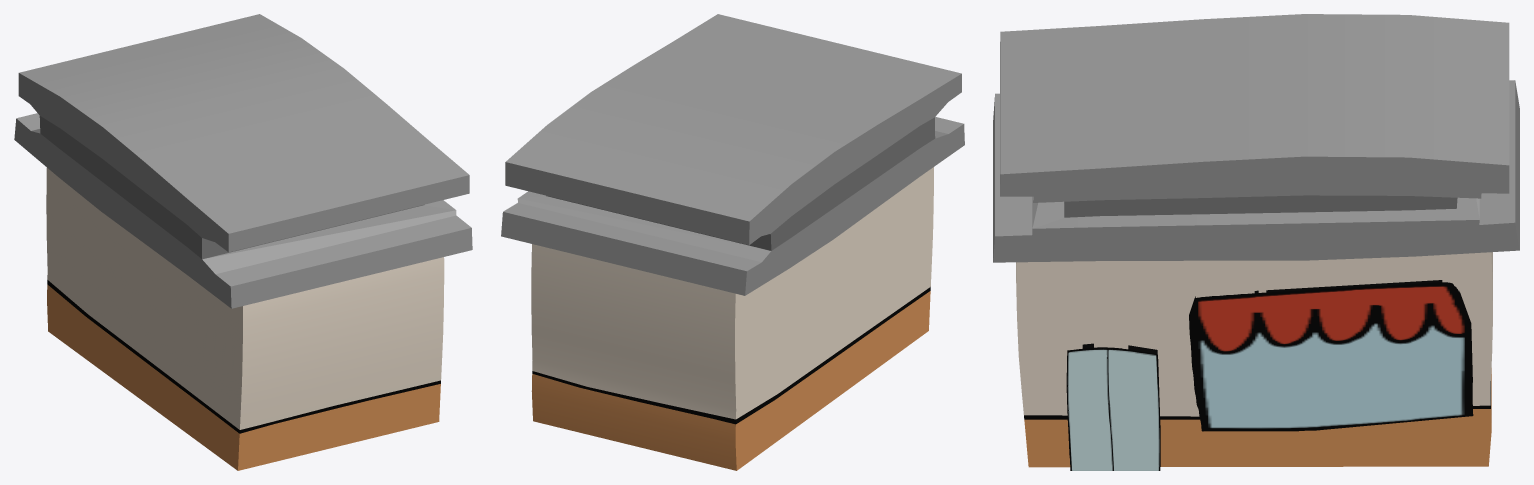
The model's file is building 8.fbx.
The picture shows the model from 3 angles, left to right: view 1: azimuth 30°, elevation 25°; view 2: azimuth 150°, elevation 25°; view 3: azimuth 270°, elevation 25°; orthographic projection. The views are drawn at different scales.
Parts seen in each view (by area): view 1: Roof 2, Building 2; view 2: Roof 2, Building 2; view 3: Roof 2, Building 2, Plane.001, Plane.
Boxes of the visible parts, x1,y1,x2,y2 form: Roof 2: (14,14,472,308); Building 2: (46,168,444,470); Roof 2: (501,14,964,295); Building 2: (531,167,933,470); Roof 2: (993,14,1519,262); Building 2: (1016,252,1492,467); Plane.001: (1189,280,1473,431); Plane: (1066,343,1160,470).
Bounding box in the file's own units: 240 × 252 × 374.
